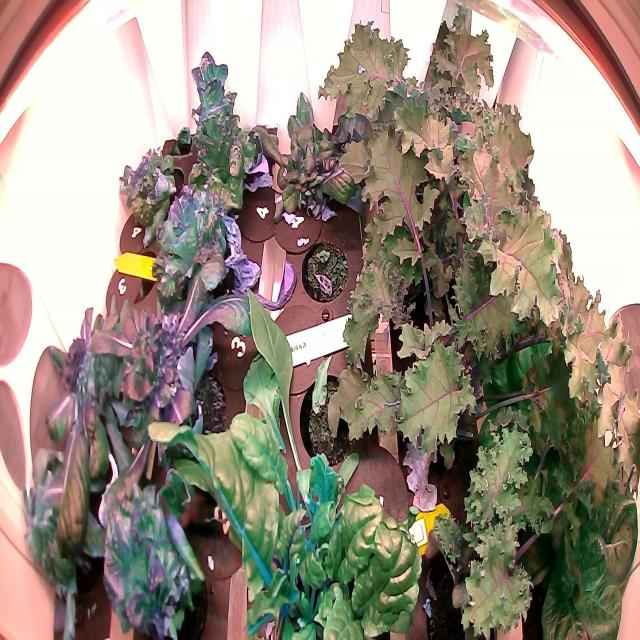empty_pod: (114, 241, 166, 310)
